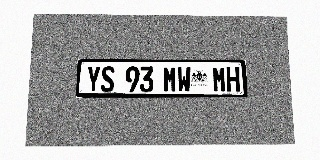3: (140, 66, 153, 92)
9: (125, 66, 139, 92)
H: (226, 66, 240, 92)
M: (163, 66, 177, 92), (212, 66, 226, 92)
S: (100, 66, 115, 92)
W: (177, 66, 191, 92)
Y: (86, 66, 101, 92)
